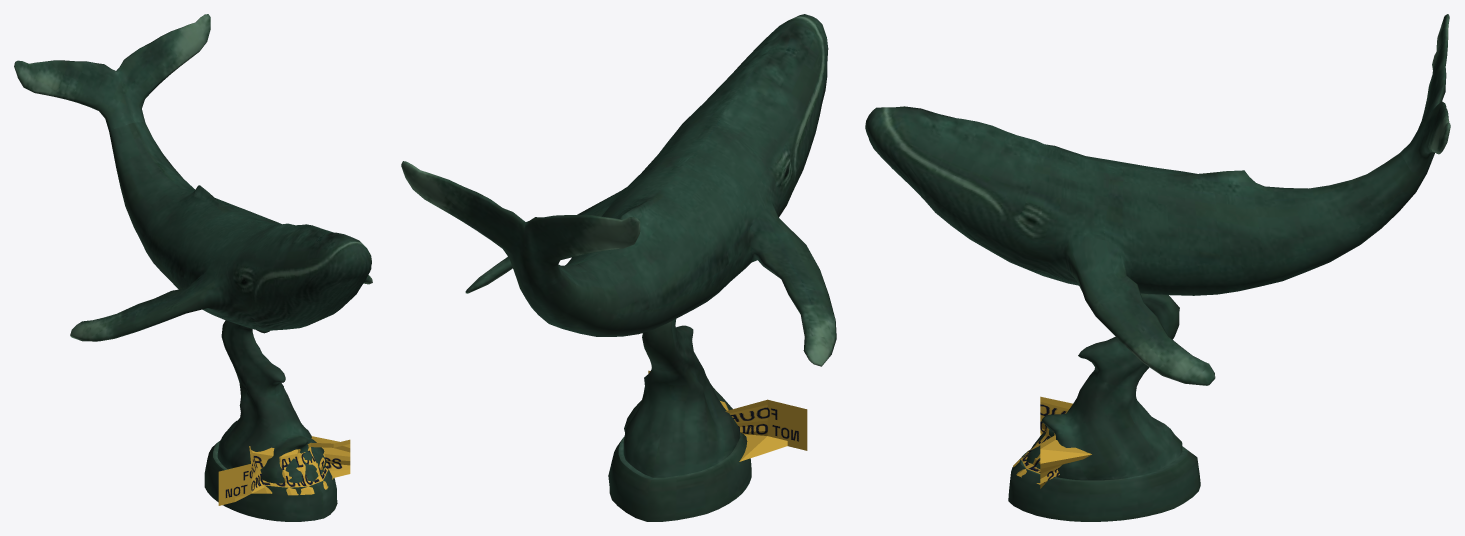
The model's file is nyb_diehard_whale.glb.
3 renders of one model, left to right at view 1: azimuth 30°, elevation 25°; view 2: azimuth 150°, elevation 25°; view 3: azimuth 270°, elevation 25°, orthographic. The views are drawn at different scales.
Visible parts, largest first — view 1: bronze_whale_statue, stk_lbl_6d91bca060.png; view 2: bronze_whale_statue, stk_lbl_6d91bca060.png; view 3: bronze_whale_statue, stk_lbl_6d91bca060.png.
Boxes of the visible parts, bbox=[...] form: bronze_whale_statue: bbox=[14, 14, 372, 521]; stk_lbl_6d91bca060.png: bbox=[218, 436, 350, 505]; bronze_whale_statue: bbox=[401, 14, 836, 521]; stk_lbl_6d91bca060.png: bbox=[648, 370, 807, 461]; bronze_whale_statue: bbox=[865, 14, 1450, 521]; stk_lbl_6d91bca060.png: bbox=[1013, 396, 1091, 488].
Bounding box in the file's own units: 0.932 × 1.07 × 1.37.
2 materials, 2 textured.
